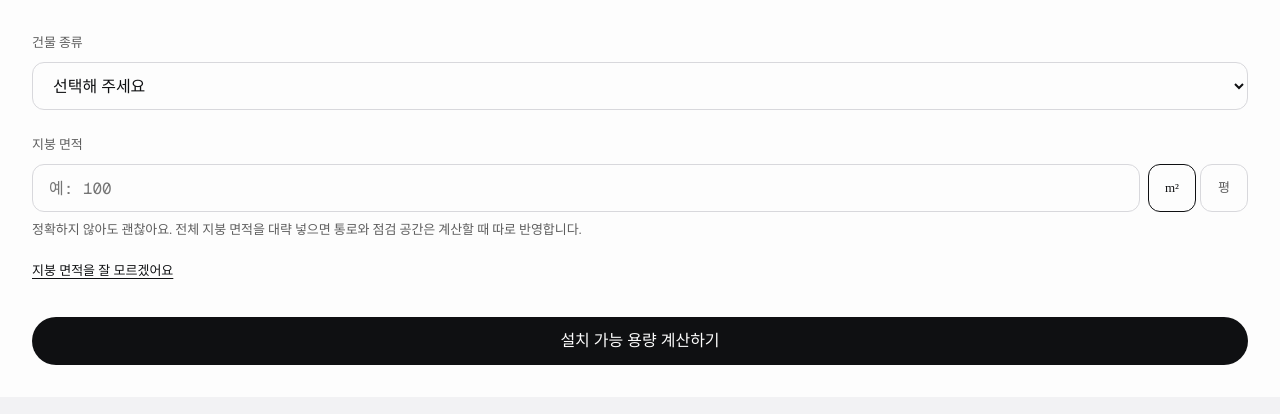
SolarCalculator unknown roof-area guidance › gives an actionable next step without estimating an unknown roof area
Click the button "지붕 면적을 잘 모르겠어요".
click(103, 271)  # box [32, 249, 173, 293]
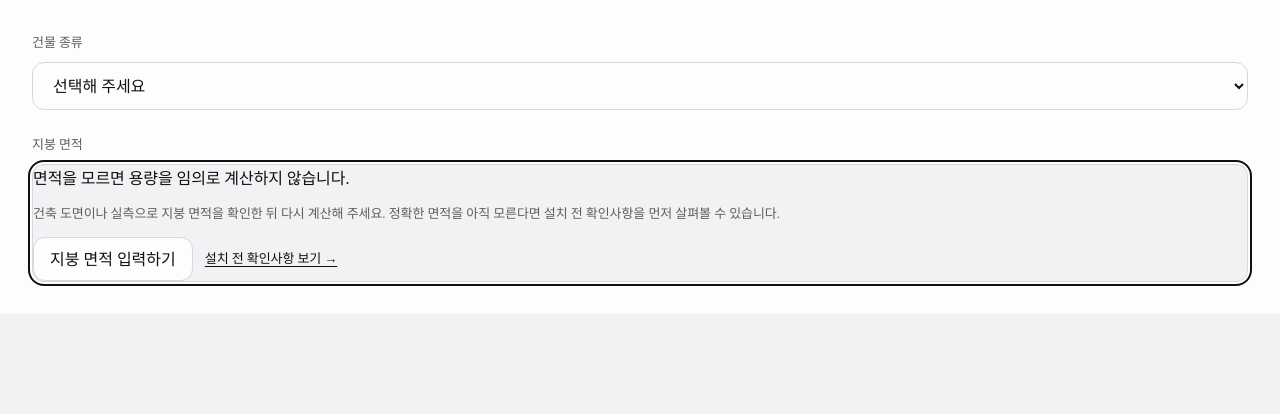
Expected: the text "건축 도면이나 실측으로 지붕 면적을 확인한 뒤" is shown, [33, 206, 780, 221]
